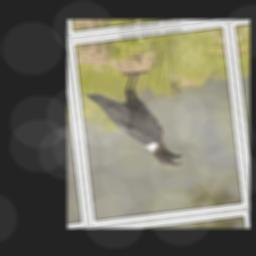Crow: (82, 65, 186, 177)
